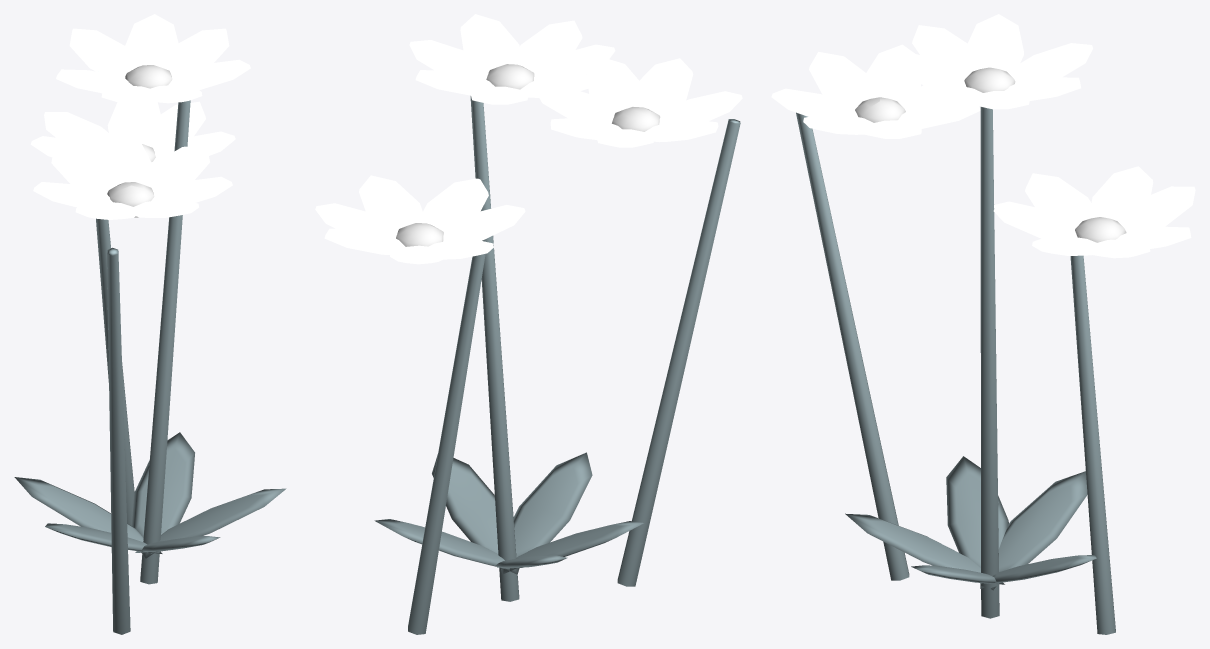
File: herb_ledovy_kvet.glb
3 views of the same model, side by side, from view 1: azimuth 30°, elevation 25°; view 2: azimuth 150°, elevation 25°; view 3: azimuth 270°, elevation 25° (orthographic). The views are drawn at different scales.
Visible parts, largest first — view 1: herb_ledovy_kvet; view 2: herb_ledovy_kvet; view 3: herb_ledovy_kvet.
Boxes of the visible parts, x1,y1,x2,y2 form: herb_ledovy_kvet: (14,14,286,634); herb_ledovy_kvet: (315,14,742,634); herb_ledovy_kvet: (771,14,1195,634).
Bounding box in the file's own units: 0.4135 × 0.749 × 0.5177.
